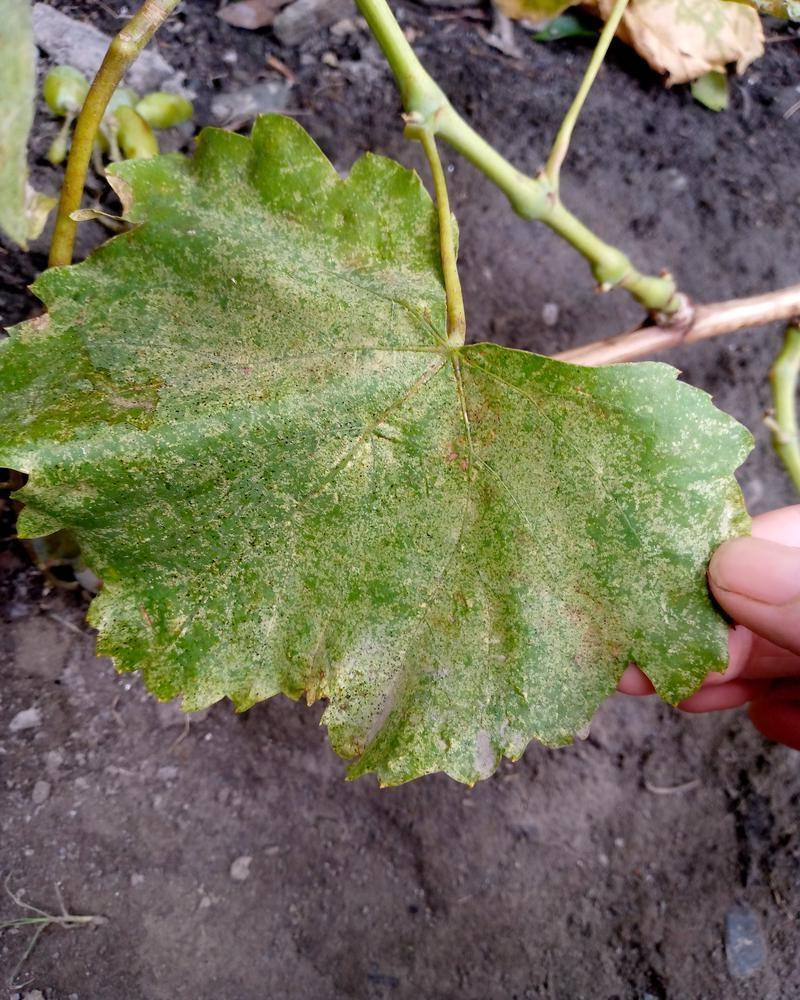Powdery-Mildew: (480, 412, 740, 711), (149, 205, 447, 422), (331, 579, 502, 758), (11, 418, 151, 545), (235, 501, 396, 599), (157, 608, 310, 706), (34, 306, 97, 369), (404, 421, 467, 484), (336, 432, 399, 495), (397, 503, 460, 566), (96, 586, 159, 649), (453, 706, 516, 769)
